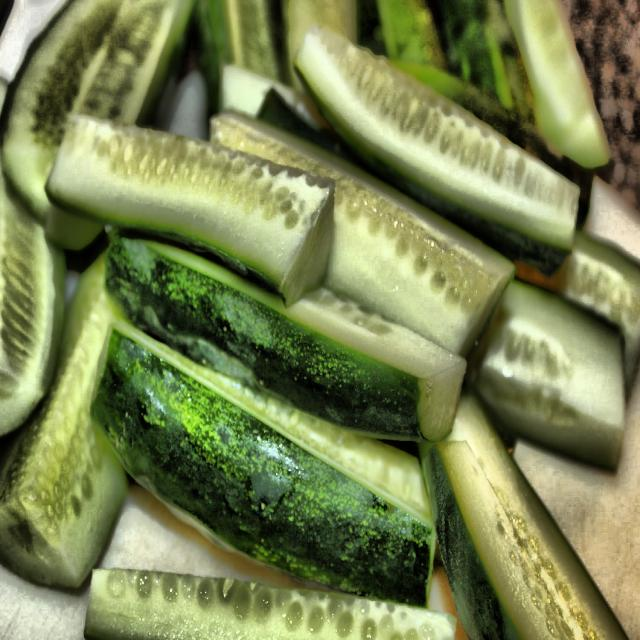cucumber: (15, 7, 600, 587)
